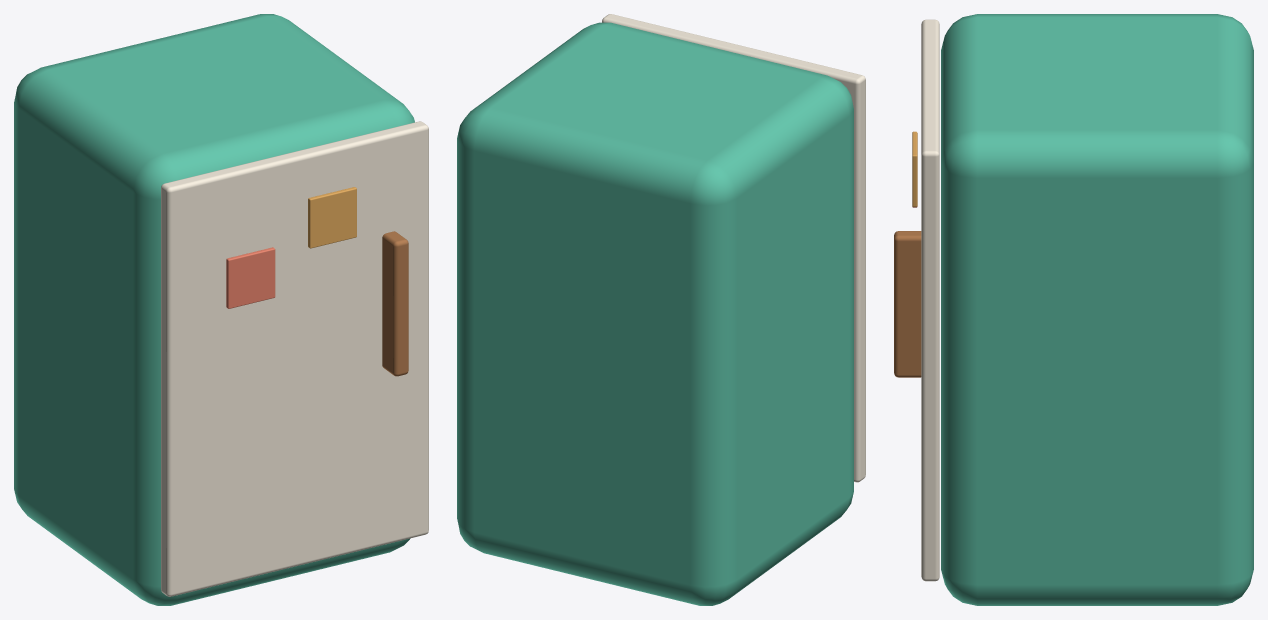
File: snack-fridge.glb
The picture shows the model from 3 angles, left to right: view 1: azimuth 30°, elevation 25°; view 2: azimuth 150°, elevation 25°; view 3: azimuth 270°, elevation 25°; orthographic projection. The views are drawn at different scales.
Parts seen in each view (by area): view 1: snack_fridge; view 2: snack_fridge; view 3: snack_fridge.
Part boxes in pixels (box(x1,y1,x2,y2)): snack_fridge: box(14, 14, 428, 605); snack_fridge: box(457, 14, 865, 605); snack_fridge: box(894, 14, 1253, 605).
Bounding box in the file's own units: 0.65 × 1 × 0.69.
